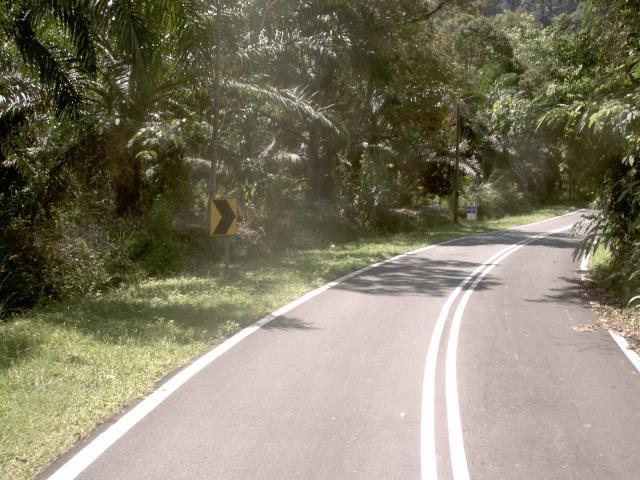traffic_sign: (202, 190, 245, 246)
